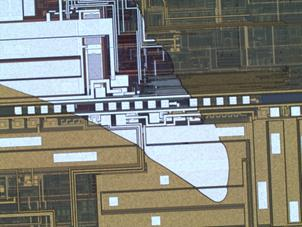COATING BAD: (1, 1, 232, 204)
